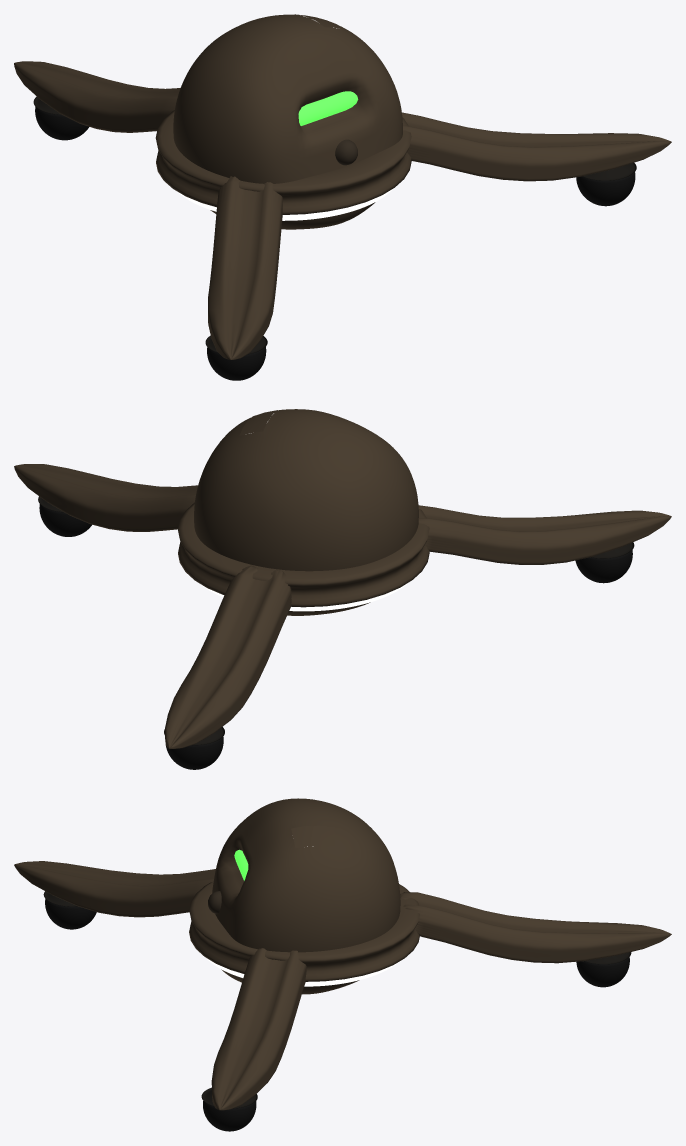
Rendered from kuris.glb.
3 renders of one model, top to bottom at view 1: azimuth 30°, elevation 25°; view 2: azimuth 150°, elevation 25°; view 3: azimuth 270°, elevation 25°, orthographic. The views are drawn at different scales.
Parts seen in each view (by area): view 1: cabeza, Loft001 (×3), Tube001, Sphere001 (×3), luz ojos, anillo_luz; view 2: Loft001 (×3), cabeza, Tube001, Sphere001 (×3), anillo_luz; view 3: Loft001 (×3), cabeza, Tube001, Sphere001 (×3), Kuris, anillo_luz.
Boxes of the visible parts, box(x1,y1,x2,y2) form: cabeza: box(173, 14, 402, 229); Loft001 (×3): box(14, 61, 671, 359); Tube001: box(155, 110, 411, 214); Sphere001 (×3): box(35, 107, 635, 380); luz ojos: box(298, 91, 358, 125); anillo_luz: box(176, 188, 393, 220); Loft001 (×3): box(14, 464, 671, 748); cabeza: box(194, 409, 418, 615); Tube001: box(178, 502, 429, 607); Sphere001 (×3): box(39, 504, 632, 769); anillo_luz: box(200, 582, 408, 611); Loft001 (×3): box(14, 861, 671, 1110); cabeza: box(212, 798, 400, 994); Tube001: box(189, 882, 419, 981); Sphere001 (×3): box(45, 899, 629, 1131); Kuris: box(291, 825, 335, 848); anillo_luz: box(205, 957, 399, 986).
Size of the model in its own units: 0.3182 by 0.1213 by 0.3613.
